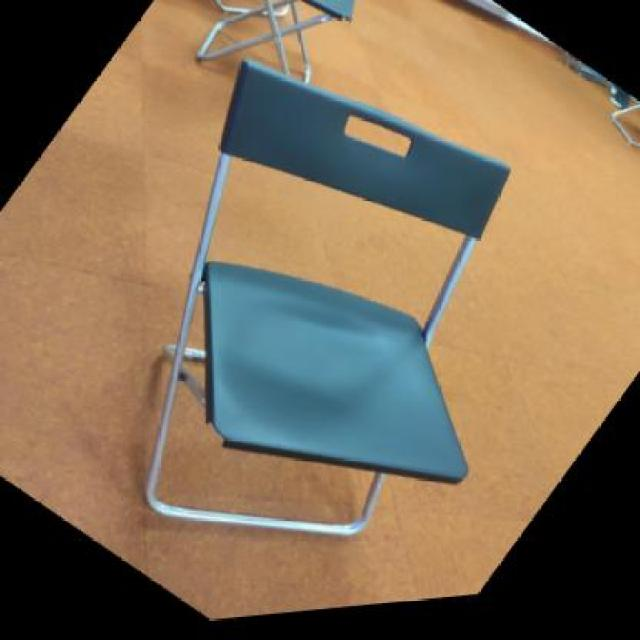chair: (0, 0, 634, 638), (139, 0, 426, 151)
